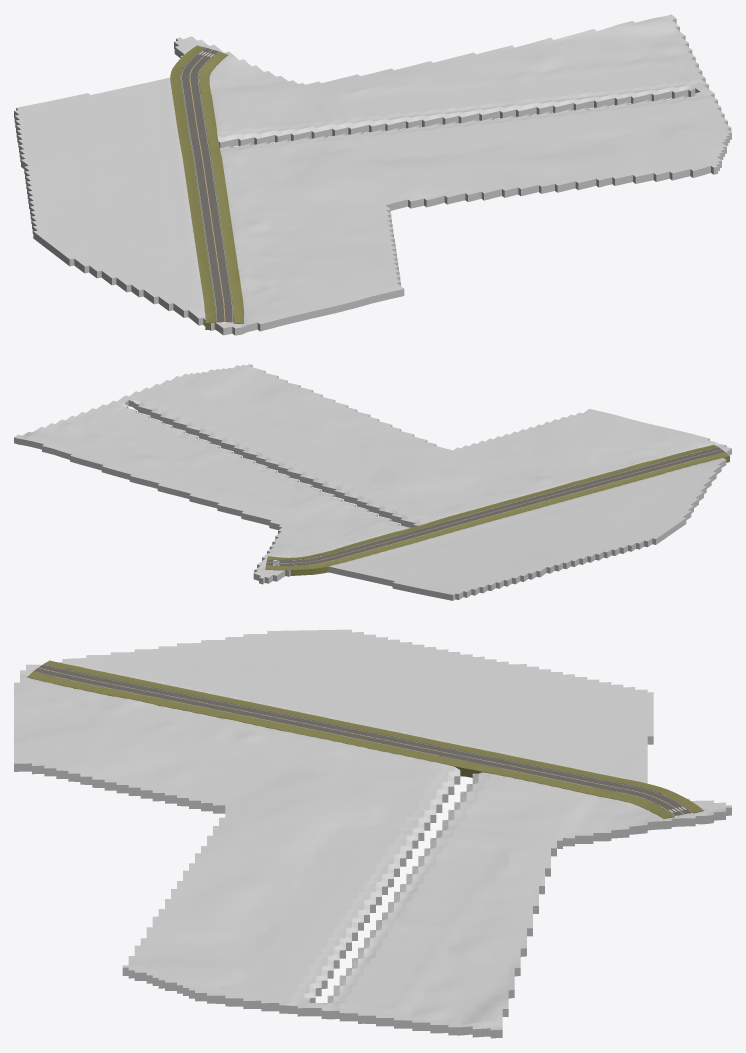
Rendered from conz_122.glb.
3 views of the same model, one above another, from view 1: azimuth 30°, elevation 25°; view 2: azimuth 150°, elevation 25°; view 3: azimuth 270°, elevation 25° (orthographic). The views are drawn at different scales.
Parts seen in each view (by area): view 1: terrain122, road122, verge122R, verge122L, paint_white122; view 2: terrain122, road122, verge122R, verge122L, paint_yellow122; view 3: terrain122, road122, verge122L, verge122R, kerb122_280020.001, paint_white122.
Boxes of the visible parts, left/top/right/bottom form: terrain122: left=14, top=14, right=731, bottom=335; road122: left=181, top=47, right=233, bottom=322; verge122R: left=170, top=45, right=215, bottom=329; verge122L: left=199, top=52, right=244, bottom=323; paint_white122: left=181, top=48, right=232, bottom=321; terrain122: left=14, top=364, right=731, bottom=600; road122: left=266, top=447, right=725, bottom=566; verge122R: left=265, top=452, right=729, bottom=575; verge122L: left=267, top=444, right=717, bottom=560; paint_yellow122: left=268, top=449, right=721, bottom=563; terrain122: left=14, top=629, right=731, bottom=1038; road122: left=33, top=664, right=692, bottom=815; verge122L: left=27, top=671, right=674, bottom=818; verge122R: left=44, top=660, right=703, bottom=813; kerb122_280020.001: left=69, top=670, right=658, bottom=792; paint_white122: left=33, top=664, right=692, bottom=815.
Size of the model in its own units: 312 by 7.25 by 238.
